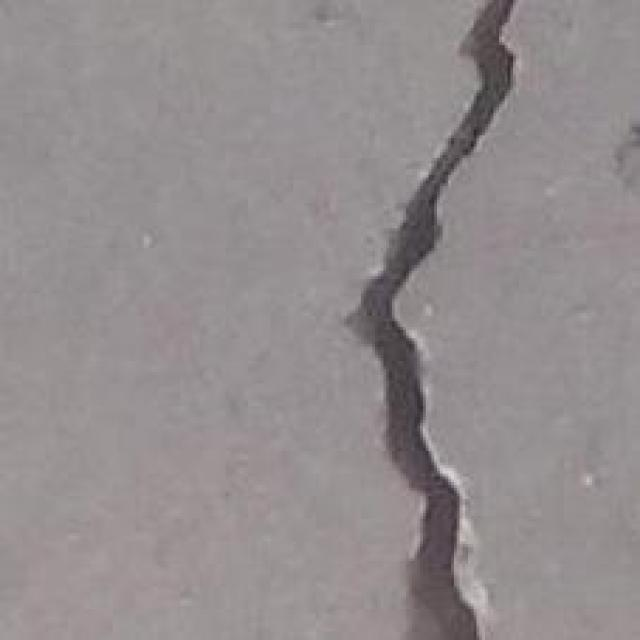Crack: (332, 0, 516, 634)
